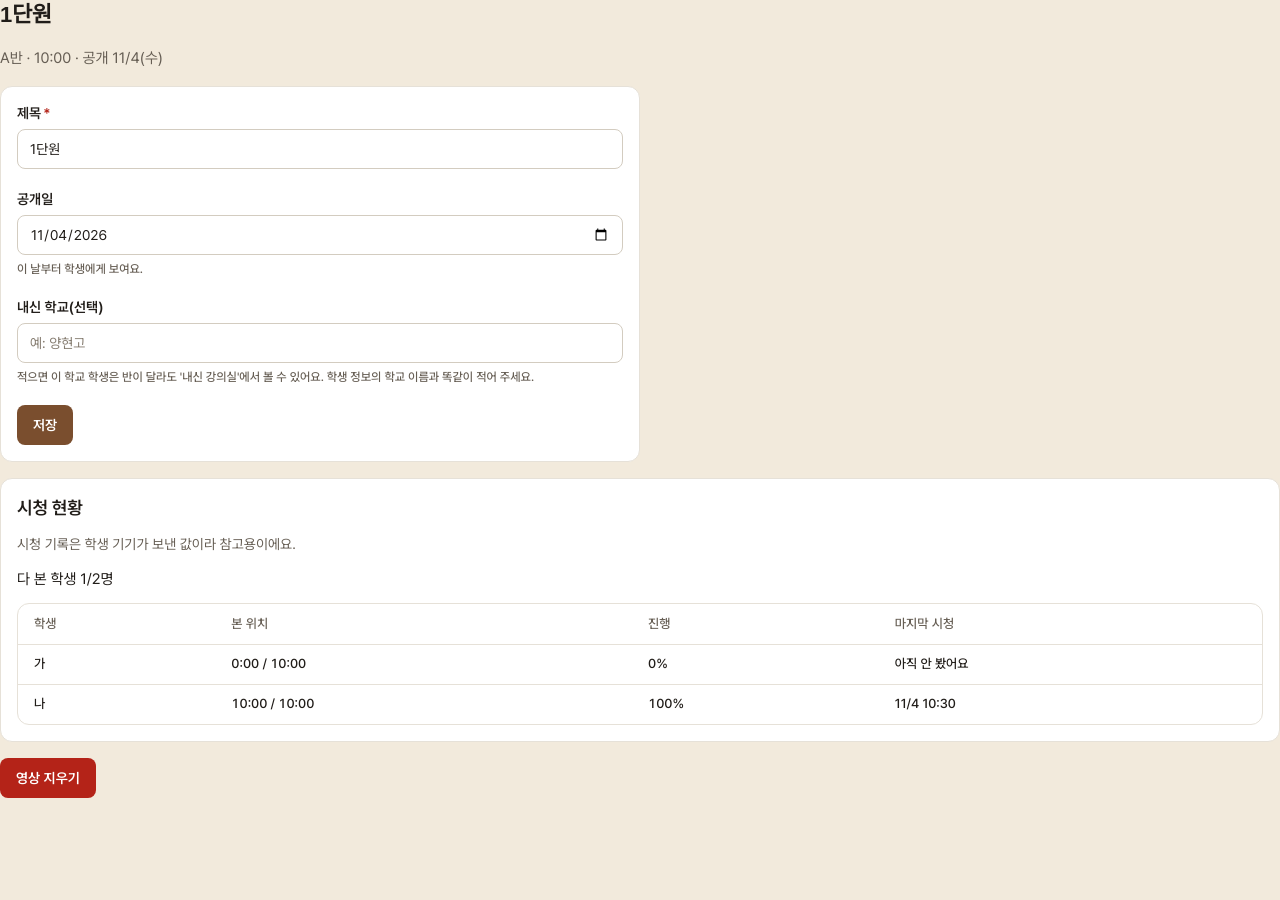
Test case: AdminVideoDetailScreen › tells when the file could not be removed
Click the button "영상 지우기" at (48, 778), box [0, 758, 96, 798]
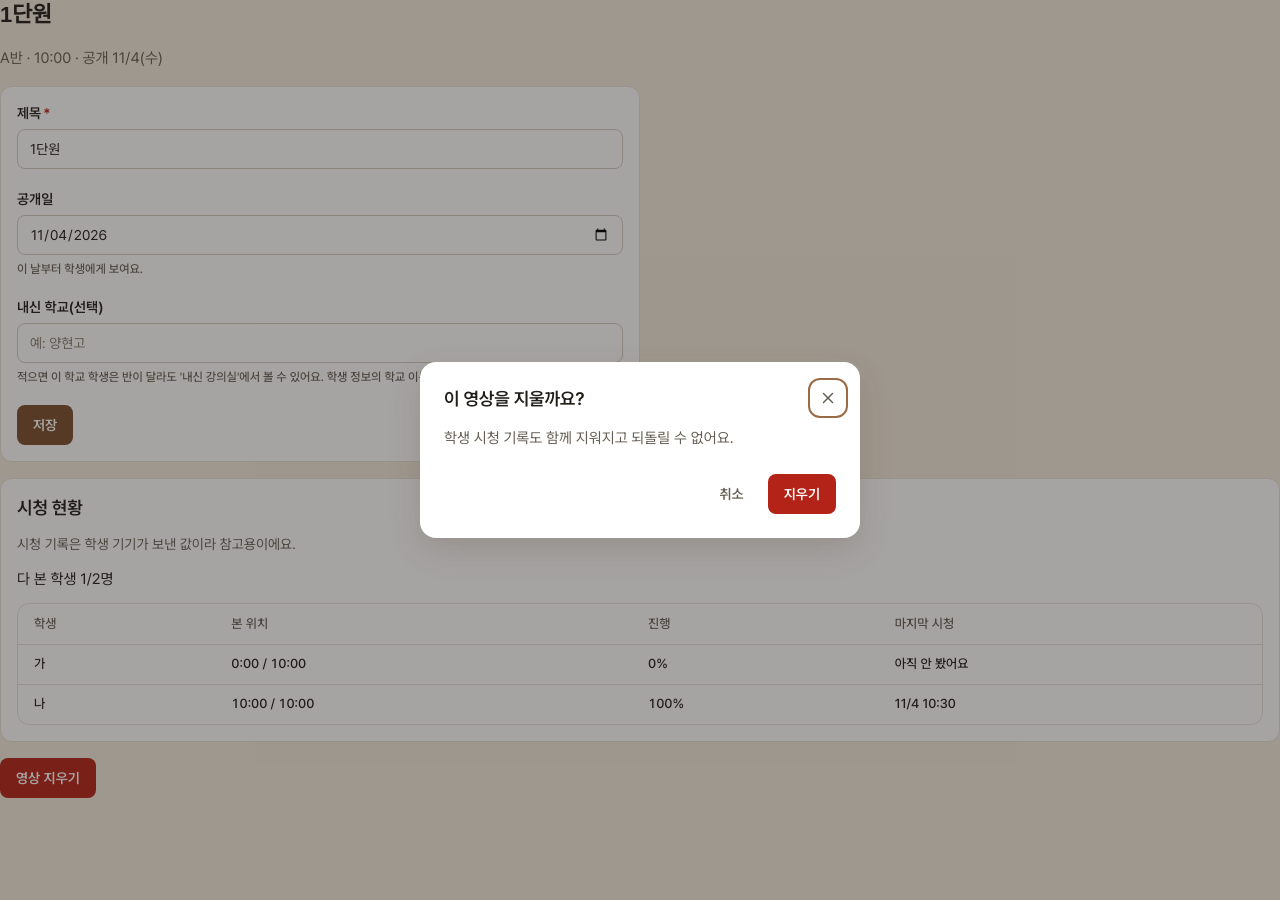
Click the button "지우기" at (802, 494), box [768, 474, 836, 514]
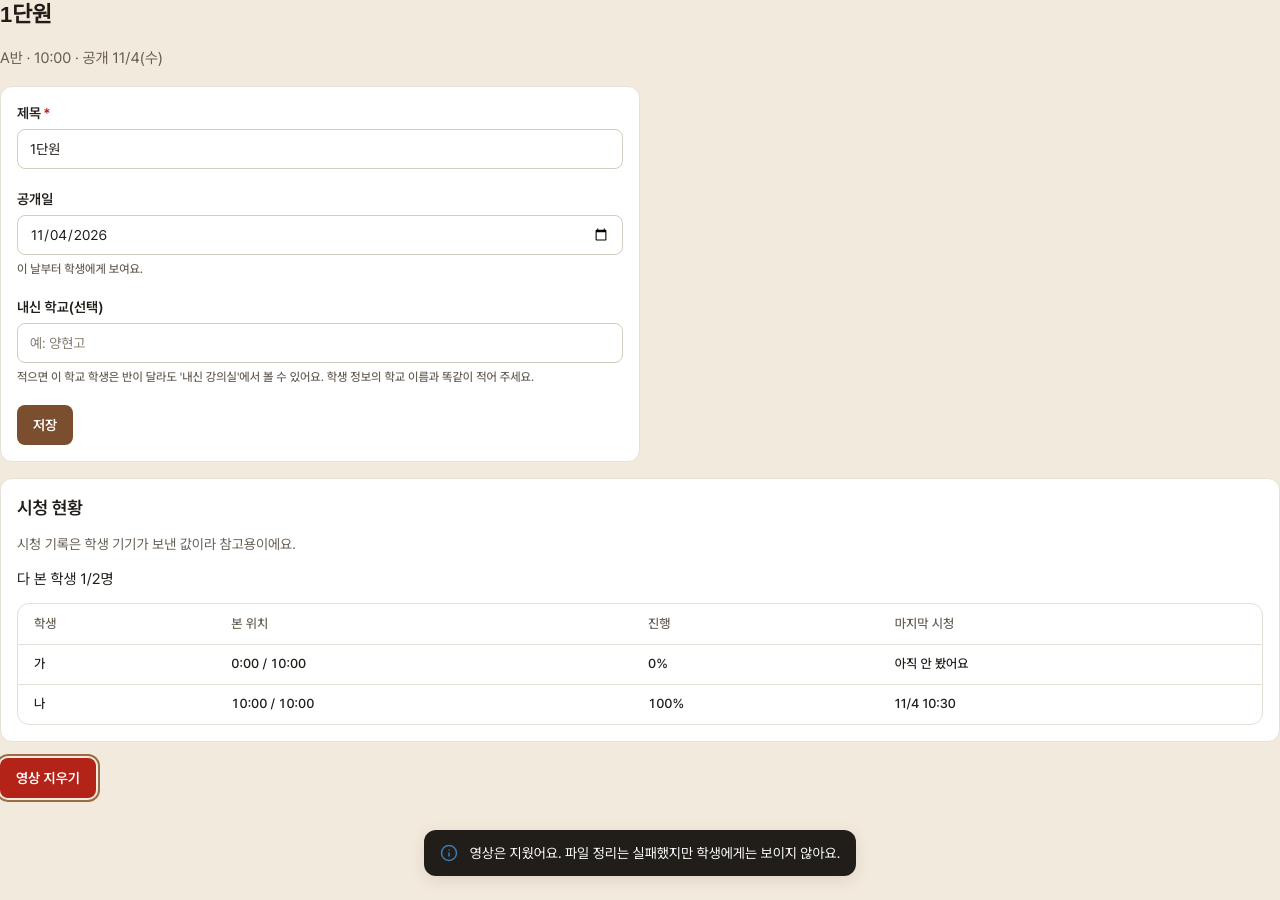
Check: the text "영상은 지웠어요. 파일 정리는 실패했지만 학생에게는 보이지 않아요." is shown, box [470, 842, 840, 864]
